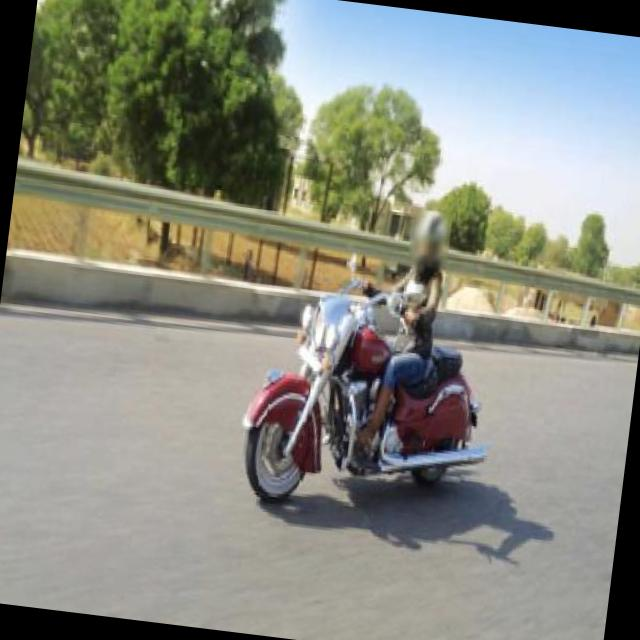With Helmet: (406, 208, 452, 270)
